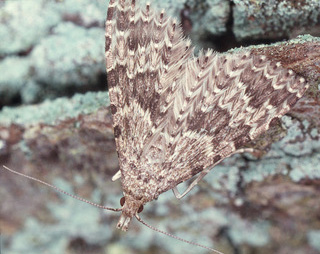Alucitidae: (1, 2, 320, 254)
moth: (1, 1, 320, 252)
